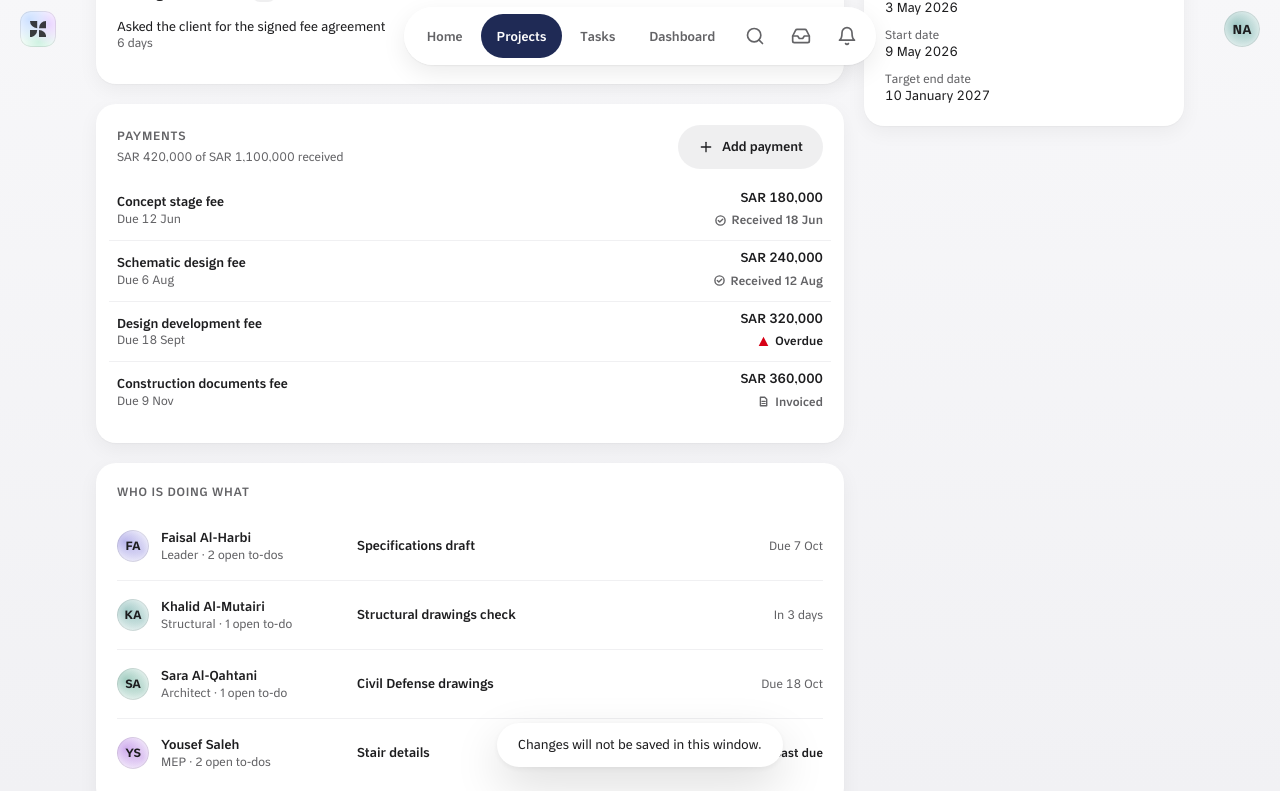
it: states 5 and 6: a linked payment › shows Invoiced and a quiet Unlink, hides Mark as received, and asks nothing about a suggestion
(page scrolled)
Click the button "Construction documents fee Due 9 Nov SAR 360,000 Invoiced" at (202, 383), box [109,362,831,422]
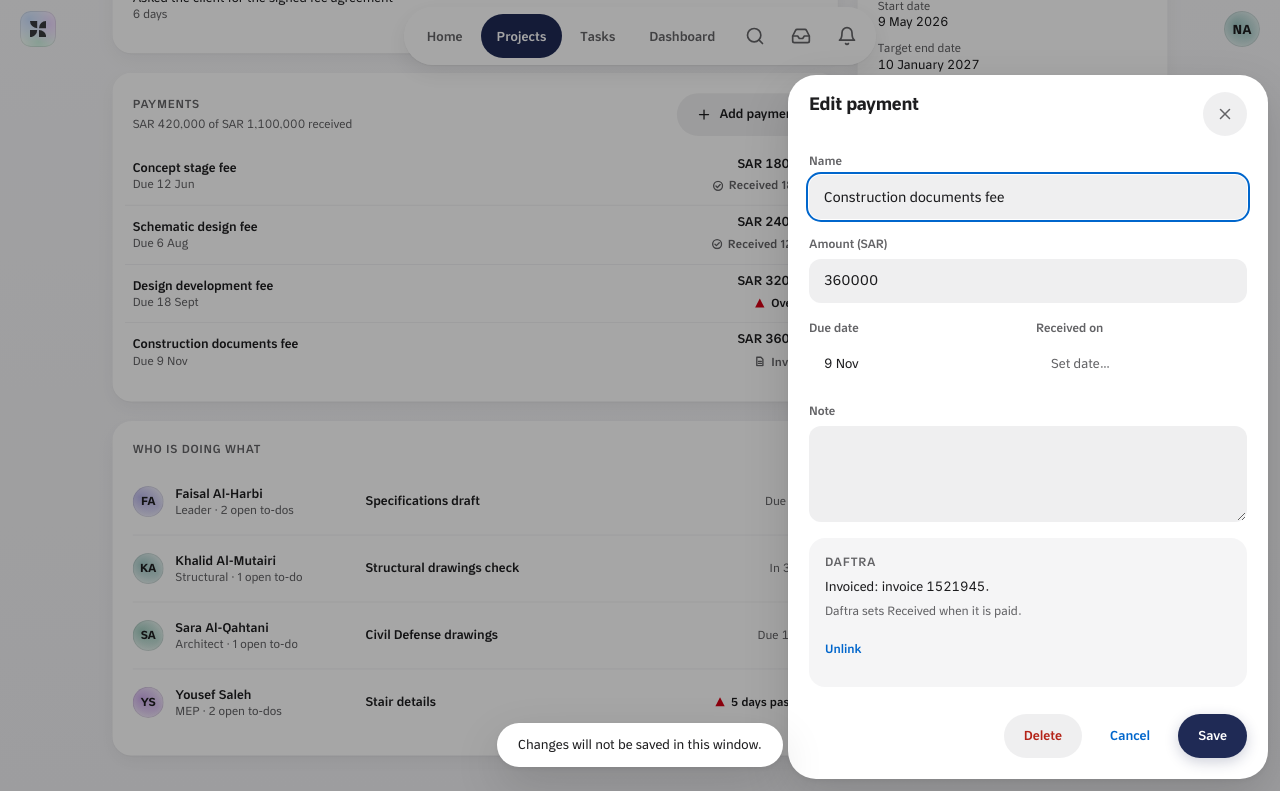
Check: the text "Invoiced: invoice 1521945." is shown, box [825,578,990,594]
Check: the text "Daftra sets Received when it is paid." is shown, box [825,603,1022,618]
Click the button "Unlink" at (843, 650), box [825,628,862,672]
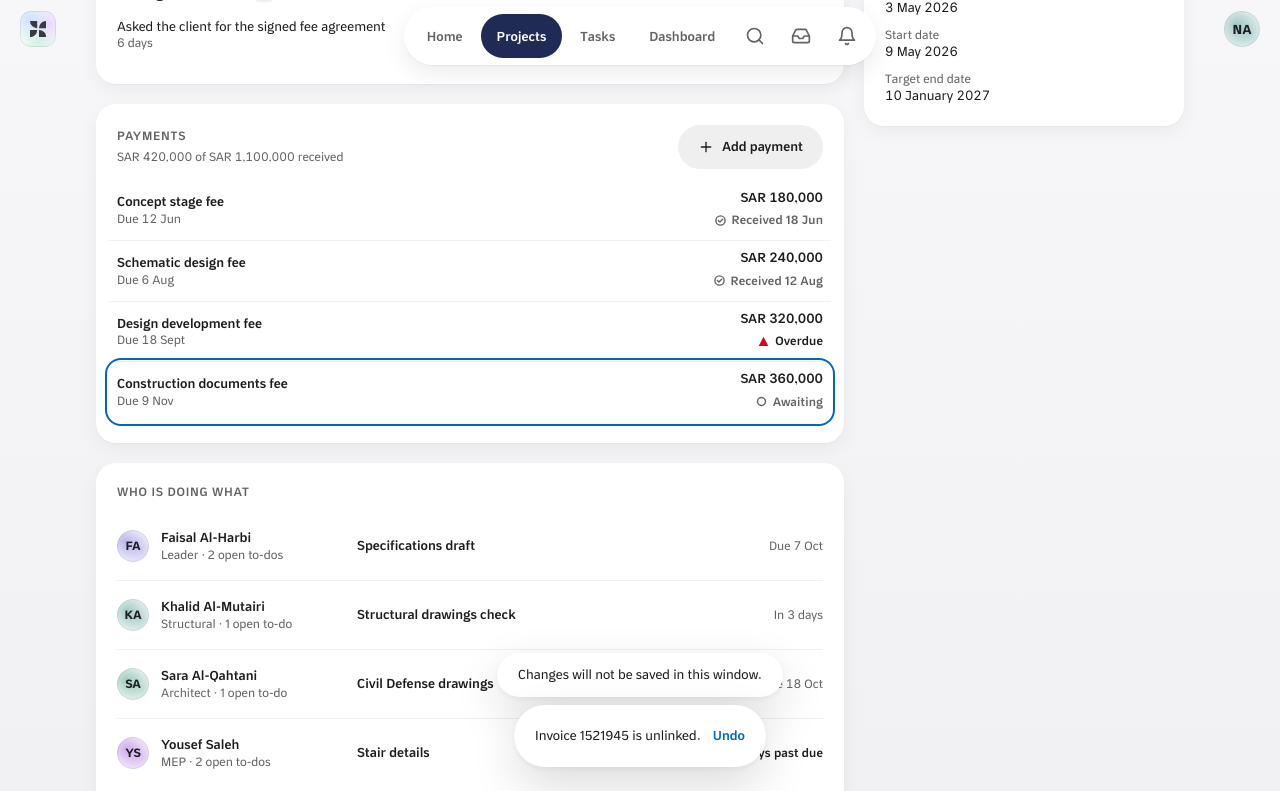
Check: the text "Invoice 1521945 is unlinked." is shown, box [535,727,701,745]
